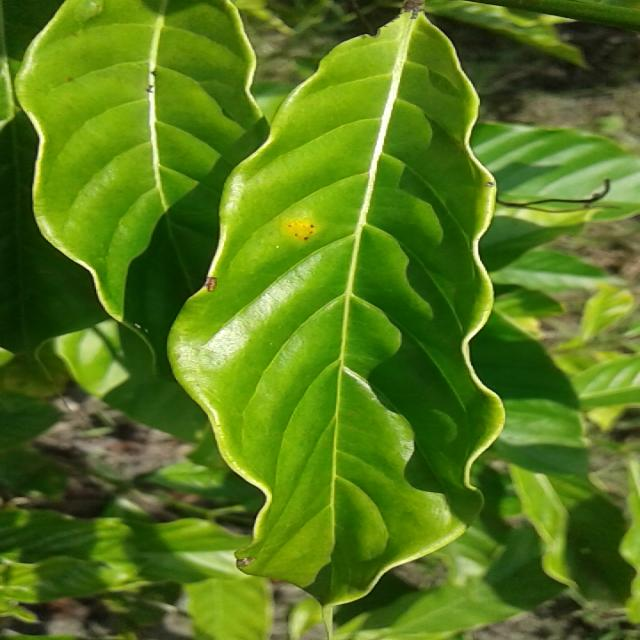Enfermedad-Roya: (168, 0, 510, 610)
